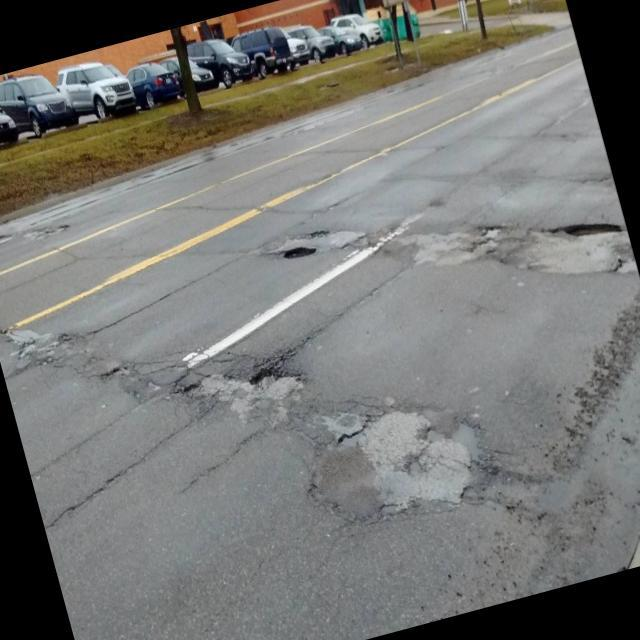Pothole: (287, 366, 540, 560), (456, 170, 632, 292), (156, 331, 324, 442), (14, 316, 87, 374), (84, 345, 146, 390), (276, 228, 330, 270)
